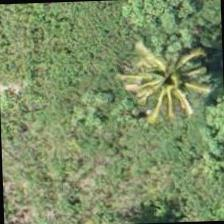Kelapa_Sawit: (123, 27, 216, 120)
